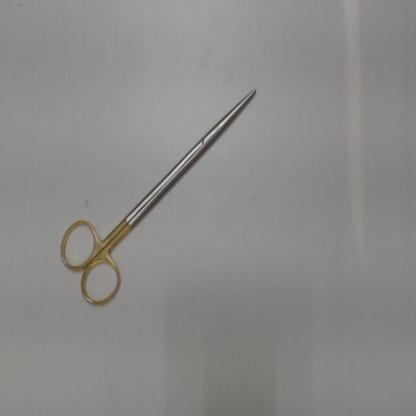7 Metzenbaum Scissors: (55, 86, 260, 313)
